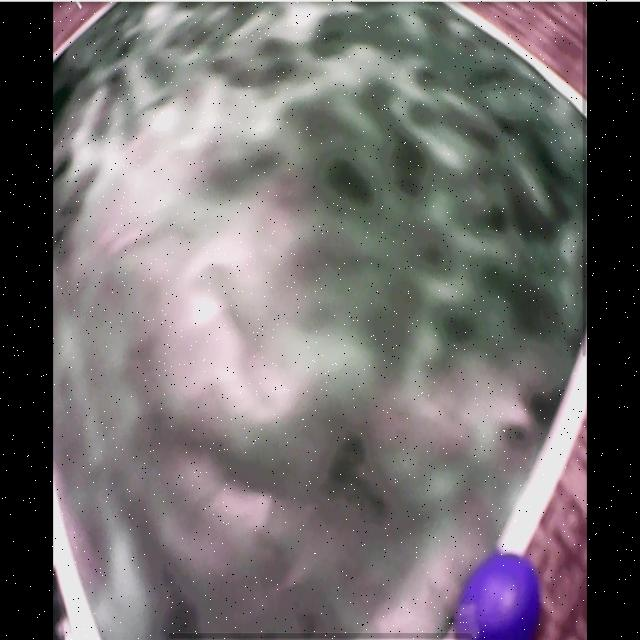ball: (475, 555, 540, 640)
